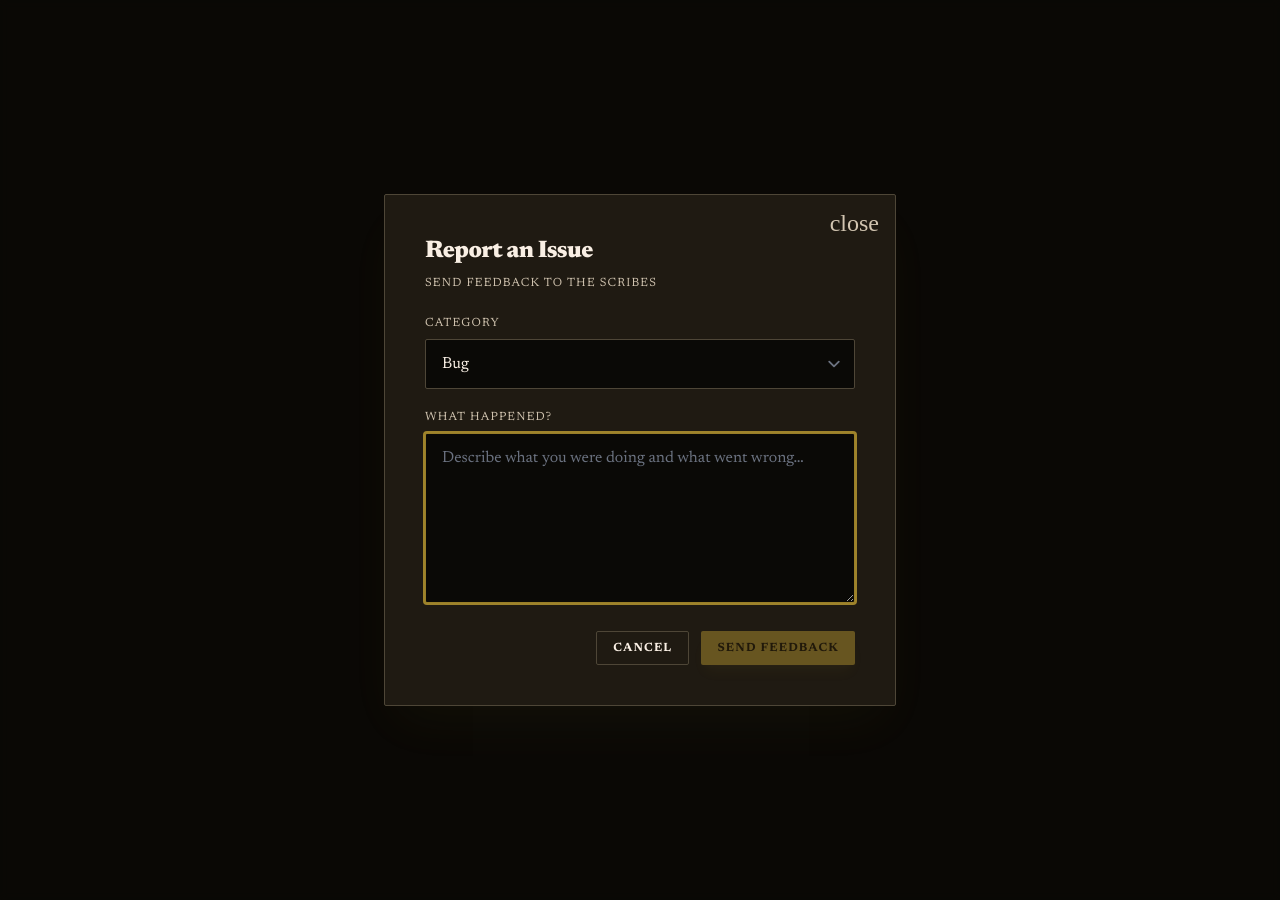
Test: FeedbackModal › posts to /api/feedback and shows success on 200
The image size is (1280, 900).
Step 1. Type "drop cap is off" into the text box → (640, 518), box [425, 433, 855, 603]
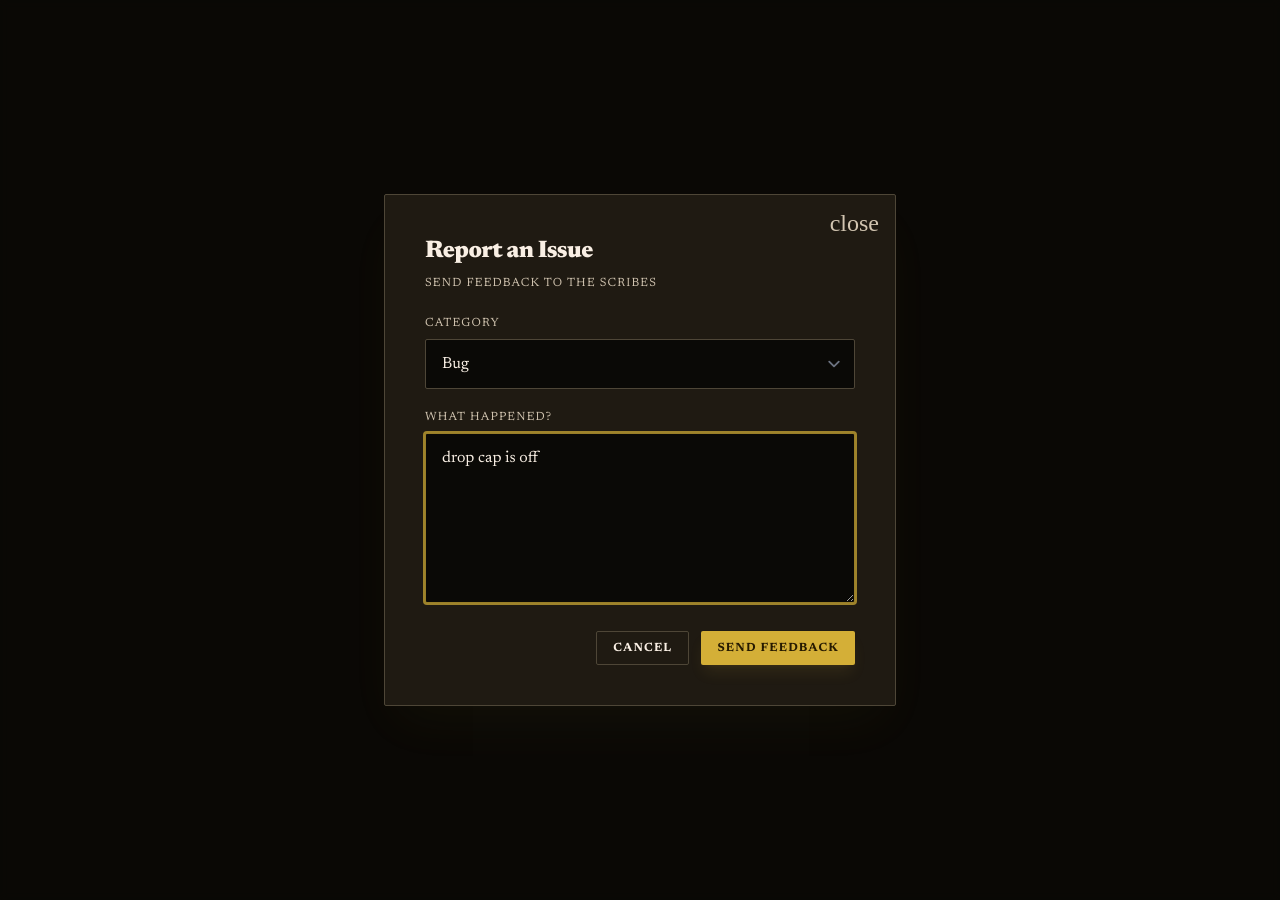
Step 2. Click the button "Send feedback" → click(778, 648), box [701, 631, 855, 665]
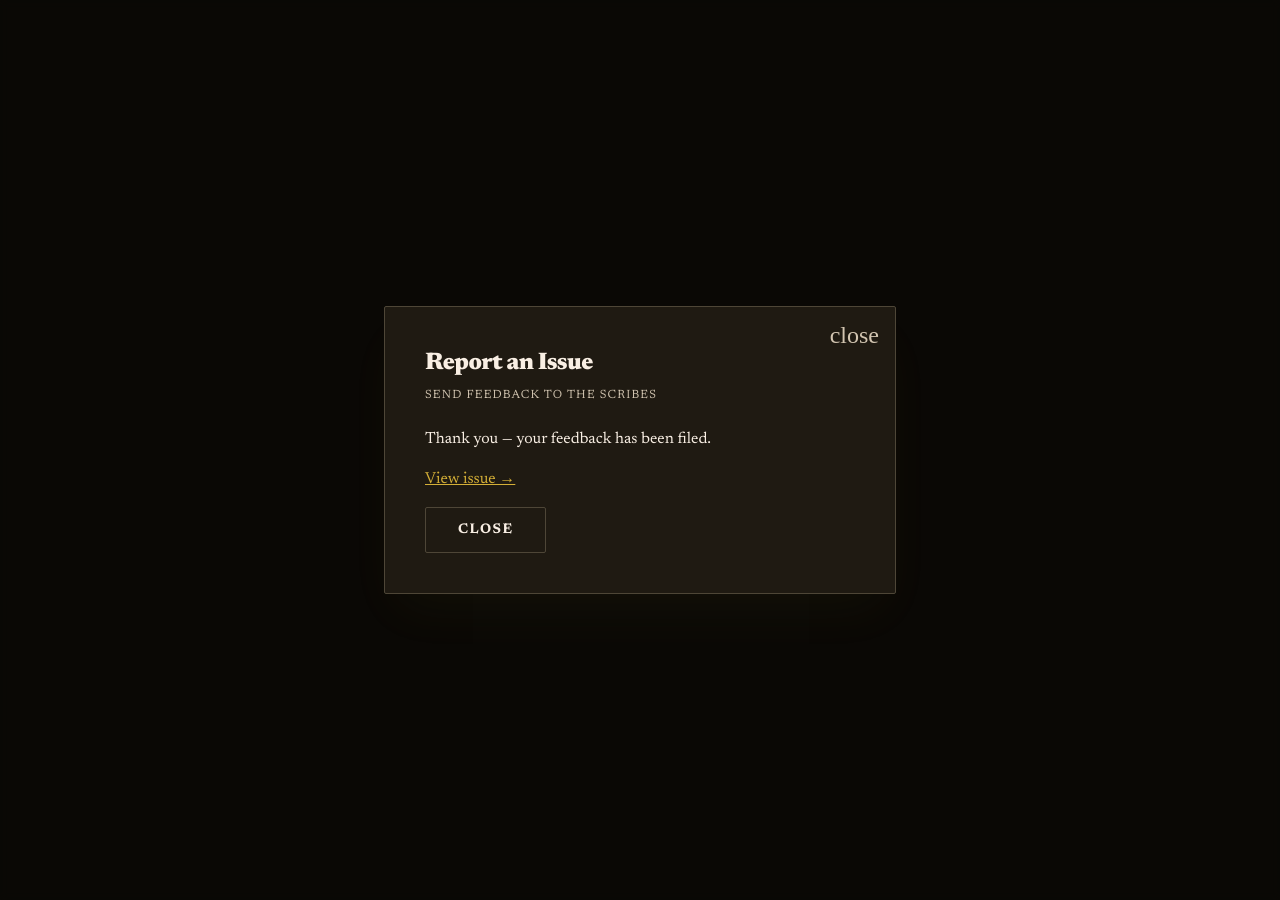
Expected: the text "Thank you — your feedback has been filed." is shown, [425, 431, 711, 447]
